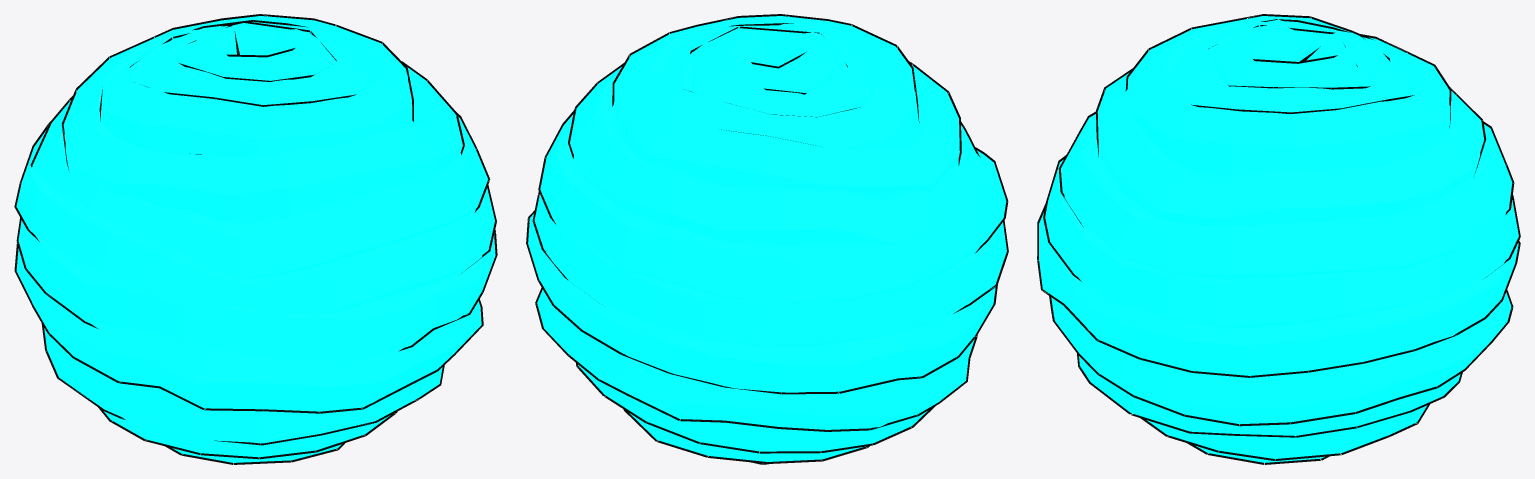
File: EnemyBlue.fbx
3 renders of one model, left to right at view 1: azimuth 30°, elevation 25°; view 2: azimuth 150°, elevation 25°; view 3: azimuth 270°, elevation 25°, orthographic.
Visible parts, largest first — view 1: Cylinder.005; view 2: Cylinder.005; view 3: Cylinder.005.
Part boxes in pixels (<box>): Cylinder.005: <box>14,14,497,464</box>; Cylinder.005: <box>526,14,1008,464</box>; Cylinder.005: <box>1037,14,1520,464</box>.
Size of the model in its own units: 234 by 213 by 234.
